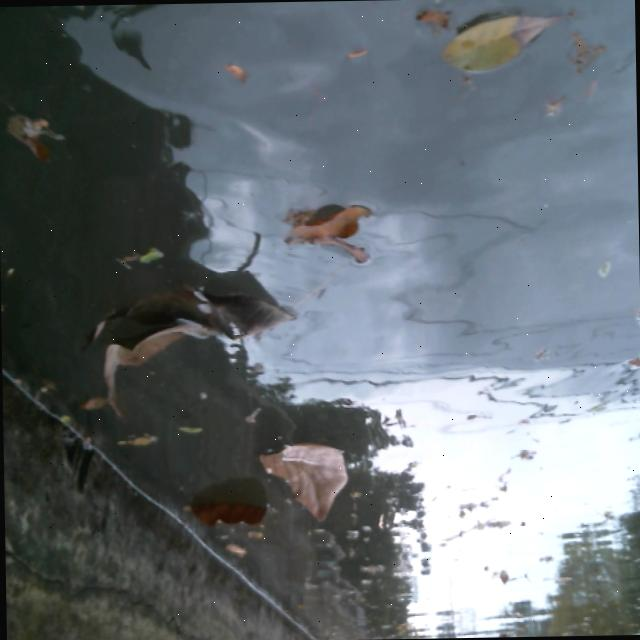Big-leaf: (82, 262, 295, 406), (245, 421, 371, 528), (273, 194, 395, 285), (168, 482, 273, 540)
Small-leaf: (435, 6, 567, 89), (0, 111, 58, 184), (105, 415, 153, 459), (205, 56, 259, 92), (330, 29, 372, 71), (218, 531, 261, 566), (411, 6, 457, 38), (158, 409, 202, 439)
